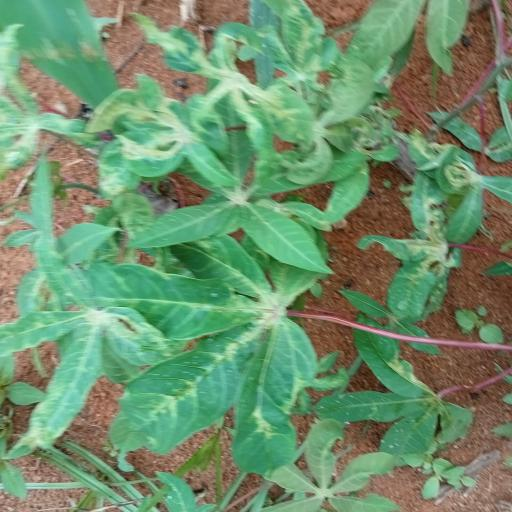Cassava_Mosaic: (82, 224, 324, 458), (234, 6, 379, 202), (9, 294, 157, 446), (102, 72, 221, 181)
